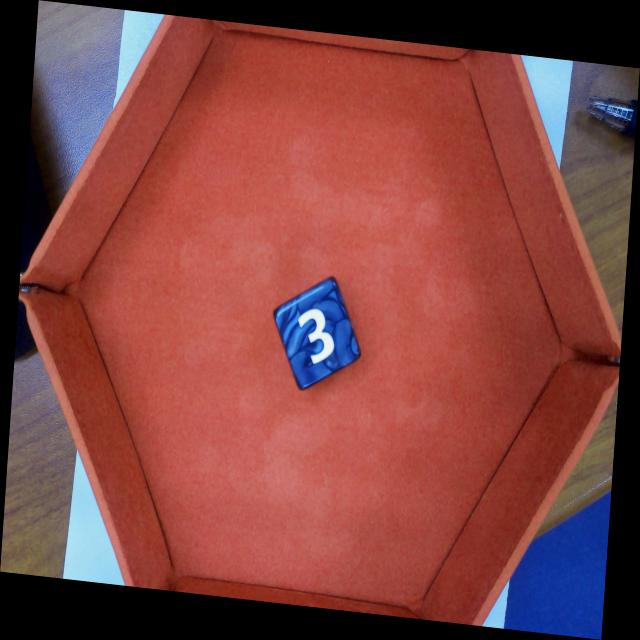dice: (271, 274, 363, 393)
